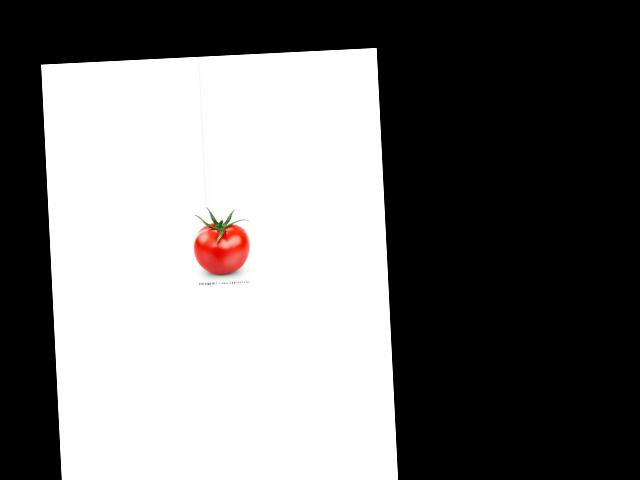tomato: (192, 221, 250, 275)
